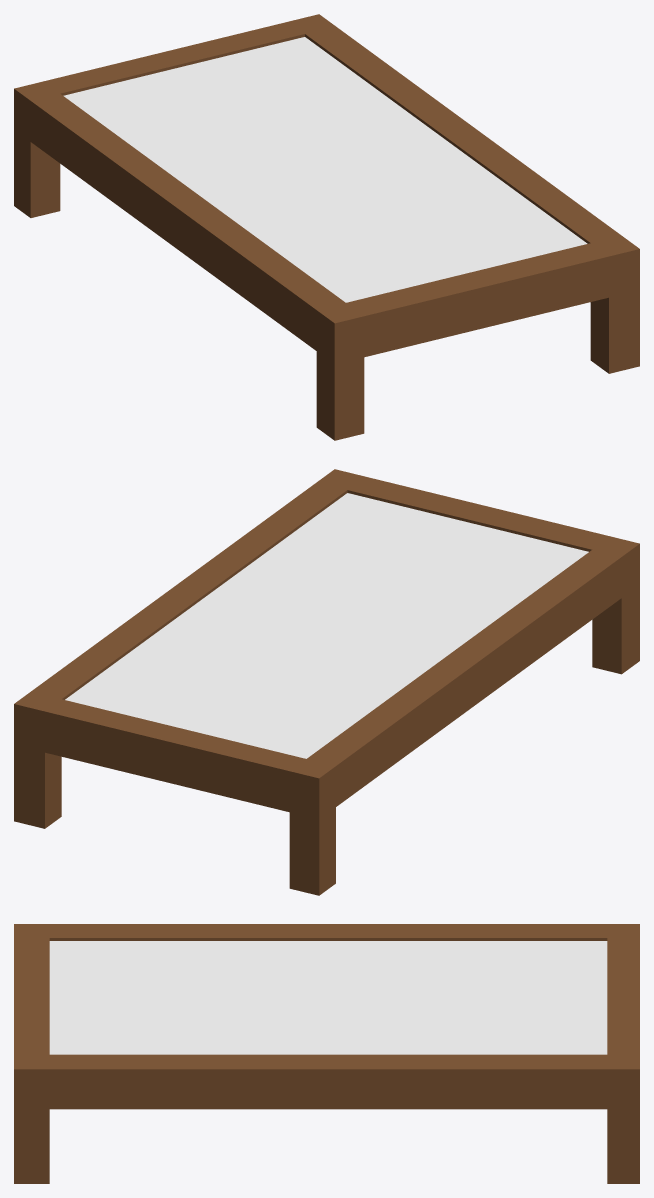
File: MD_Table.FBX
3 renders of one model, top to bottom at view 1: azimuth 30°, elevation 25°; view 2: azimuth 150°, elevation 25°; view 3: azimuth 270°, elevation 25°, orthographic. The views are drawn at different scales.
Parts seen in each view (by area): view 1: MD_Table; view 2: MD_Table; view 3: MD_Table.
Boxes of the visible parts, box(x1,y1,x2,y2) form: MD_Table: box(14, 14, 639, 440); MD_Table: box(14, 469, 639, 895); MD_Table: box(14, 924, 639, 1183).
Size of the model in its own units: 107 by 39.33 by 195.
